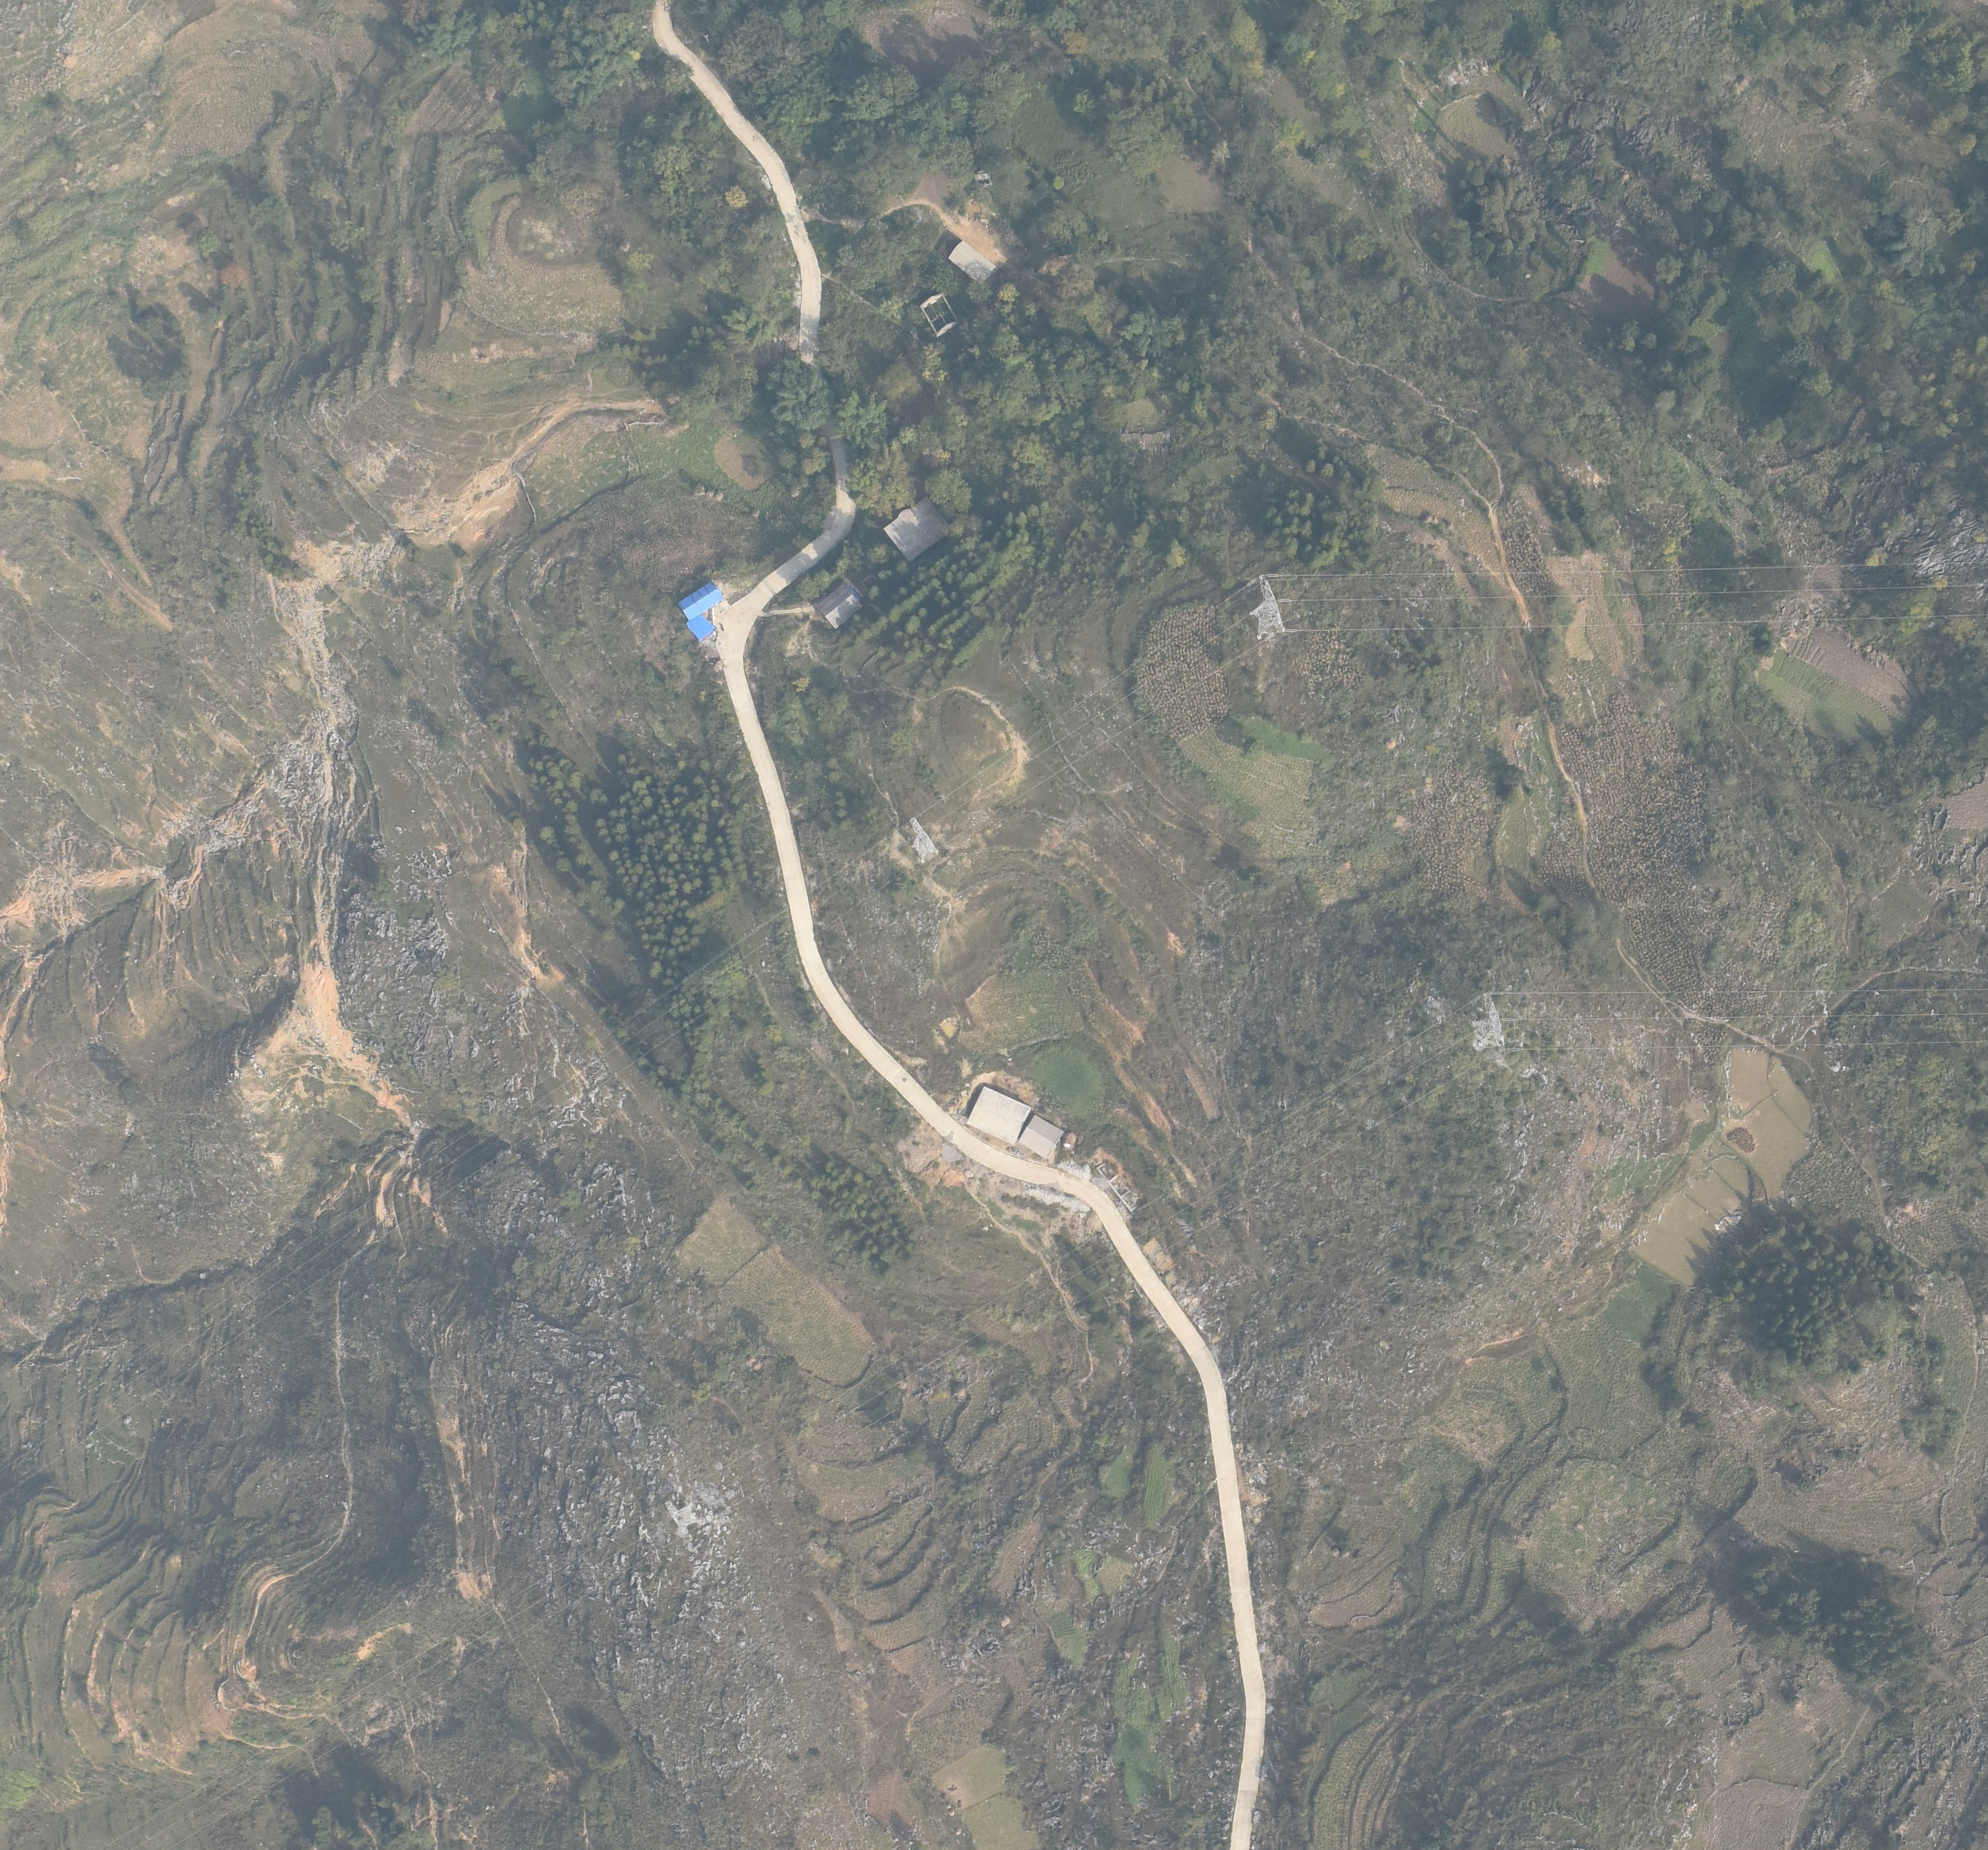building: (882, 496, 949, 562), (966, 1086, 1034, 1142), (948, 240, 997, 285), (817, 582, 865, 630), (1020, 1114, 1063, 1159), (919, 292, 959, 337)
cable-tower: (1251, 575, 1297, 638), (1471, 992, 1514, 1054), (900, 812, 946, 866), (664, 1496, 707, 1542)
prefabricated-house: (680, 583, 723, 621), (685, 614, 716, 640)
